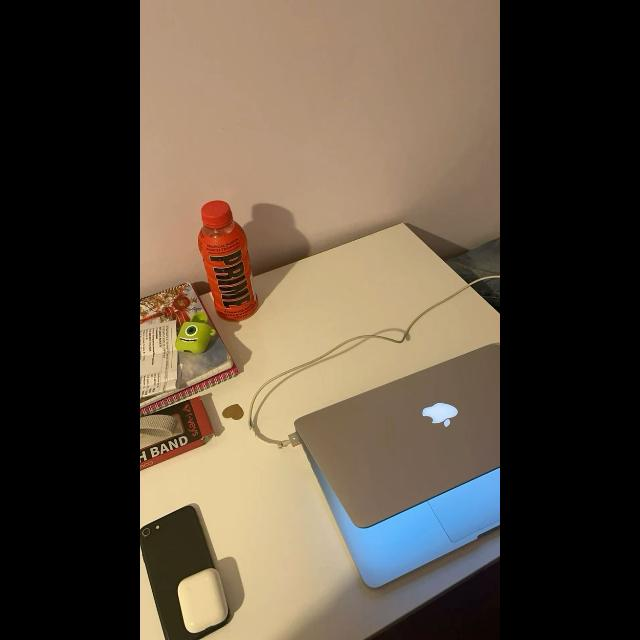laptop: (293, 339, 500, 587)
